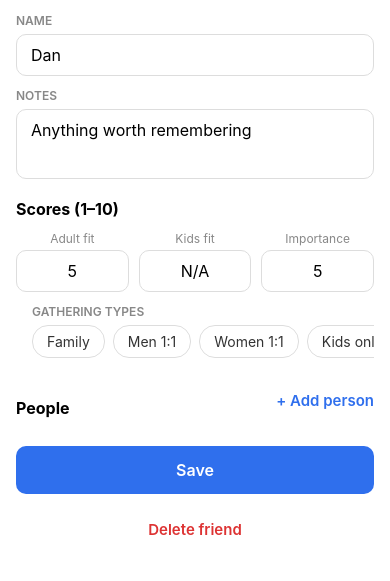
Scenario: FriendFormScreen (edit) › save__scalars_call_rejects__does_not_navigate_back_and_shows_error
The width and height of the screenshot is (390, 581).
expect the 1st field showing "Dan" is shown: met, box [16,34,374,76]
Click the element with test id "save-friend".
click(195, 470)  # box [16,446,374,494]
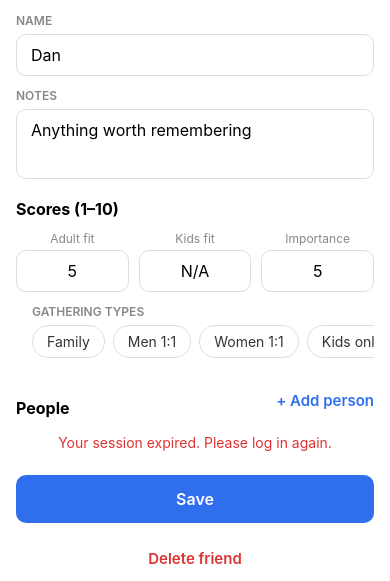
expect the text "Your session expired. Please log in again." is shown: met, box [58,434,332,451]
